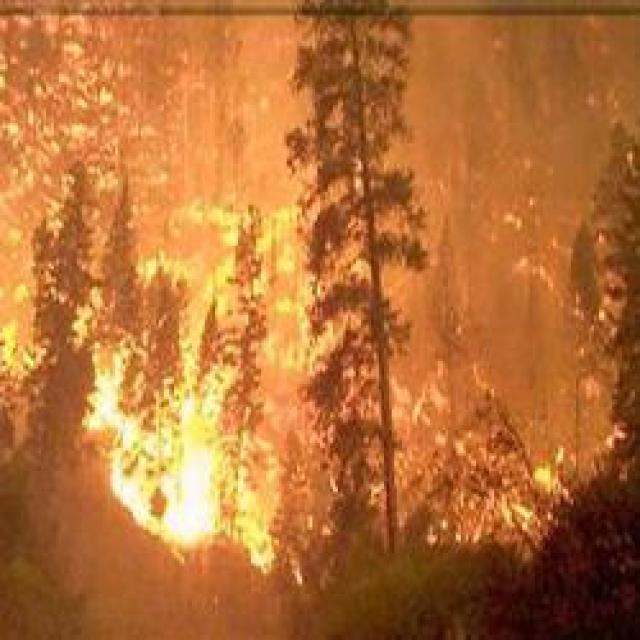Fire: (120, 420, 224, 540)
